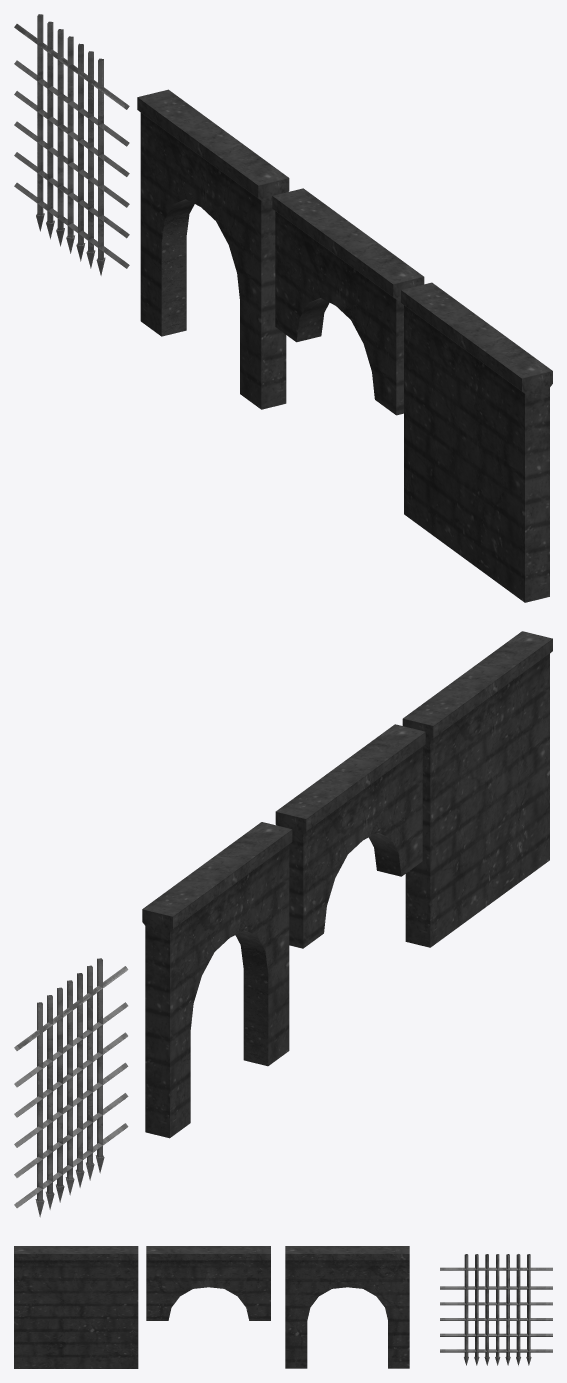
File: Extra Walls.fbx
3 views of the same model, one above another, from view 1: azimuth 30°, elevation 25°; view 2: azimuth 150°, elevation 25°; view 3: azimuth 270°, elevation 25° (orthographic). The views are drawn at different scales.
Parts seen in each view (by area): view 1: Short Wall, Tunnel, Half Tunnel, Cube.001; view 2: Short Wall, Tunnel, Half Tunnel, Cube.001; view 3: Short Wall, Tunnel, Half Tunnel, Cube.001.
Boxes of the visible parts, bbox=[...] form: Short Wall: bbox=[401, 282, 552, 602]; Tunnel: bbox=[137, 89, 289, 409]; Half Tunnel: bbox=[272, 188, 424, 415]; Cube.001: bbox=[14, 14, 129, 275]; Short Wall: bbox=[402, 631, 552, 947]; Tunnel: bbox=[142, 822, 292, 1138]; Half Tunnel: bbox=[275, 724, 425, 948]; Cube.001: bbox=[14, 958, 128, 1217]; Short Wall: bbox=[14, 1246, 138, 1368]; Tunnel: bbox=[285, 1246, 409, 1368]; Half Tunnel: bbox=[146, 1246, 270, 1320]; Cube.001: bbox=[440, 1254, 552, 1365].
Bounding box in the file's own units: 53.26 × 368 × 1553.
